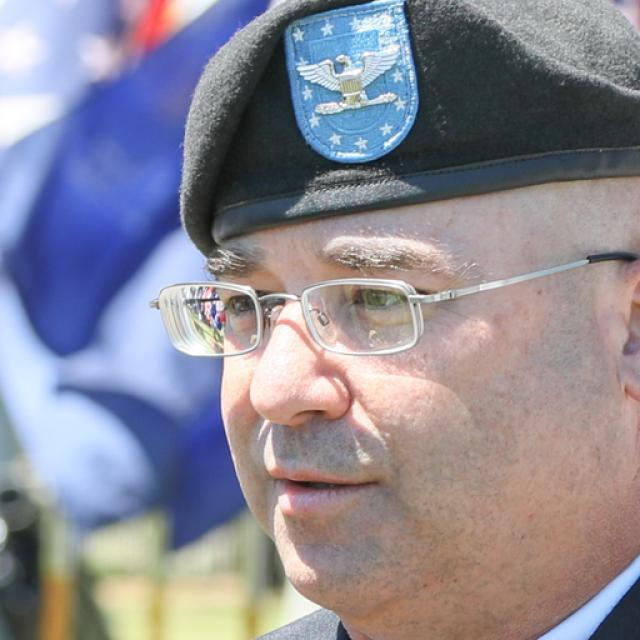neutral: (200, 173, 620, 619)
